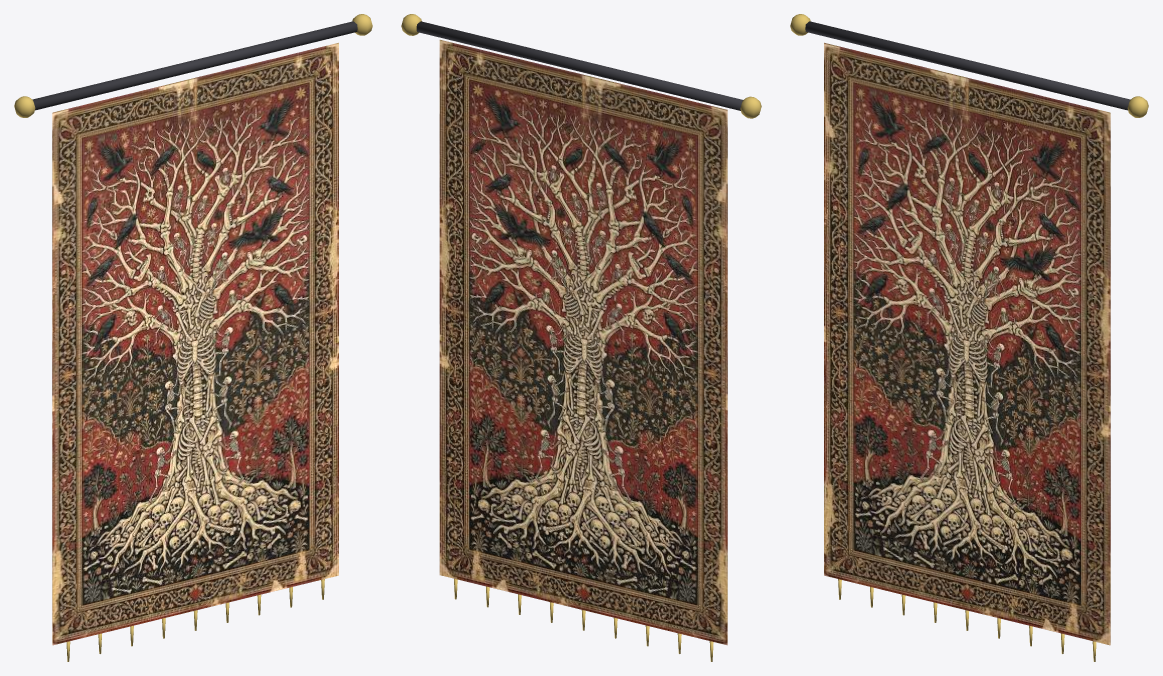
The model's file is art_tapestry_bone_tree.glb.
3 views of the same model, side by side, from view 1: azimuth 30°, elevation 25°; view 2: azimuth 150°, elevation 25°; view 3: azimuth 330°, elevation 25° (orthographic).
Visible parts, largest first — view 1: GD_art_tapestry_bone_tree__m0, GD_art_tapestry_bone_tree__m1, GD_art_tapestry_bone_tree__m2; view 2: GD_art_tapestry_bone_tree__m0, GD_art_tapestry_bone_tree__m1, GD_art_tapestry_bone_tree__m2; view 3: GD_art_tapestry_bone_tree__m0, GD_art_tapestry_bone_tree__m1, GD_art_tapestry_bone_tree__m2.
Boxes of the visible parts, x1=… form: GD_art_tapestry_bone_tree__m0: x1=52, y1=42, x2=338, y2=645; GD_art_tapestry_bone_tree__m1: x1=32, y1=21, x2=357, y2=110; GD_art_tapestry_bone_tree__m2: x1=14, y1=14, x2=372, y2=661; GD_art_tapestry_bone_tree__m0: x1=439, y1=39, x2=727, y2=645; GD_art_tapestry_bone_tree__m1: x1=416, y1=21, x2=742, y2=110; GD_art_tapestry_bone_tree__m2: x1=401, y1=14, x2=761, y2=661; GD_art_tapestry_bone_tree__m0: x1=824, y1=42, x2=1110, y2=645; GD_art_tapestry_bone_tree__m1: x1=805, y1=21, x2=1130, y2=110; GD_art_tapestry_bone_tree__m2: x1=790, y1=14, x2=1148, y2=661.
Bounding box in the file's own units: 1.12 × 1.72 × 0.06.
3 materials, 1 textured.
